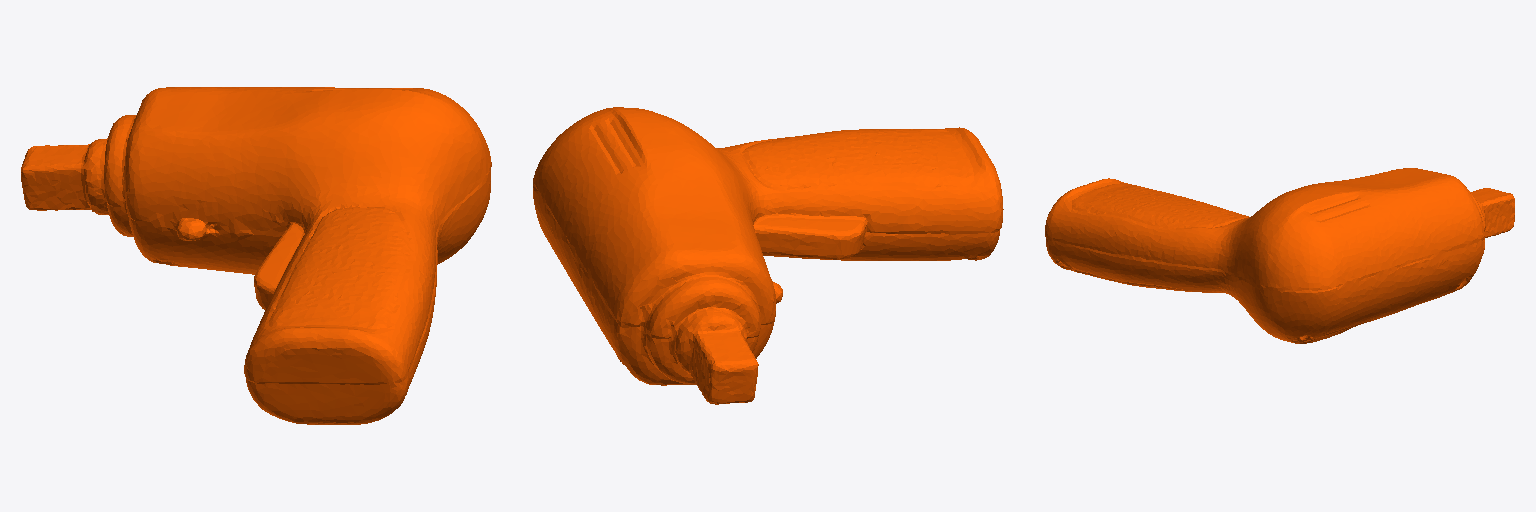
robot.urdf — 072-b_toy_airplane:
<?xml version="1.0" ?>
<robot name="072-b_toy_airplane">
   <material name="obj_color">
      <color rgba="1.0 0.423529411765 0.0392156862745 1.0"/>
   </material>
   <link name="top">
      <inertial>
         <origin rpy="0.0004942967934980392 0.001252125568692535 0.00156166593487289" xyz="0.00951122349338487 0.00570710593681919 0.002566830359802973"/>
         <mass value="0.6795822500605975"/>
         <inertia ixx="0.001235630634957782" ixy="-0.0001315357804325907" ixz="-5.661899530190892e-05" iyy="0.0005216891177271171" iyz="-5.526222858954081e-05" izz="0.001550768544378565"/>
      </inertial>
      <visual>
         <origin rpy="0 0 0" xyz="0 0 0"/>
         <geometry>
            <mesh filename="top_watertight_tiny.stl" scale="1 1 1"/>
         </geometry>
         <material name="obj_color"/>
      </visual>
      <collision>
         <origin rpy="0 0 0" xyz="0 0 0"/>
         <geometry>
            <mesh filename="top_watertight_tiny.obj" scale="1 1 1"/>
         </geometry>
      </collision>
   </link>
   <link name="bottom">
      <inertial>
         <origin rpy="1.633333333199431e-08 1.633333333199431e-08 1.633333333362855e-08" xyz="0.3464080000000008 0.3464080000000008 0.3464080000000008"/>
         <mass value="0.0009800000000000017"/>
         <inertia ixx="1.633333333253906e-08" ixy="5.447480642029219e-19" ixz="5.447480642029219e-19" iyy="1.633333333253906e-08" iyz="5.447480642029219e-19" izz="1.633333333253906e-08"/>
      </inertial>
      <visual>
         <origin rpy="0 0 0" xyz="0 0 0"/>
         <geometry>
            <mesh filename="bottom_watertight_tiny.stl" scale="1 1 1"/>
         </geometry>
         <material name="obj_color"/>
      </visual>
   </link>
   <link name="world"/>
   <joint name="world_to_base" type="fixed">
      <origin xyz="0 0 0"/>
      <axis xyz="0 0 0"/>
      <parent link="world"/>
      <child link="bottom"/>
   </joint>
   <joint name="rotation" type="revolute">
      <origin xyz="0 0 0"/>
      <axis xyz="0 0 -1"/>
      <parent link="bottom"/>
      <child link="top"/>
      <dynamics damping="1.0" friction="1.0"/>
      <limit effort="0.1" velocity="0.1" lower="0" upper="0.001"/>
   </joint>
</robot>

--- Render facts (derived) ---
The picture shows the robot from 3 angles, left to right: view 1: azimuth 30°, elevation 25°; view 2: azimuth 150°, elevation 25°; view 3: azimuth 270°, elevation 25°; orthographic projection.
Model 072-b_toy_airplane with 3 links and 2 joints (1 revolute, 1 fixed), rooted at world, posed all joints at 0.
Links seen in each view (by area): view 1: top; view 2: top; view 3: top.
Link boxes in pixels (left/top/right/bottom): top: left=21, top=87, right=491, bottom=424; top: left=533, top=107, right=1003, bottom=404; top: left=1045, top=168, right=1514, bottom=343.
Size in the robot's own frame: 0.1203 by 0.1817 by 0.0593 metres.
Meshes: 2 distinct files referenced, 1 mesh visuals loaded (1 binary STL); not drawn: 1 (reference not matched to a file when rendering).
